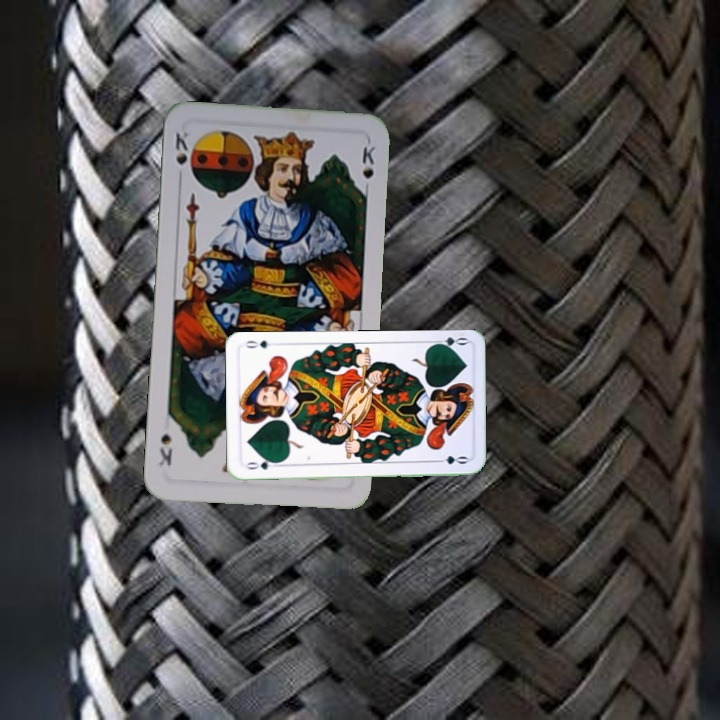GO: (428, 333, 469, 353), (241, 455, 282, 472)
SK: (171, 128, 191, 185)
